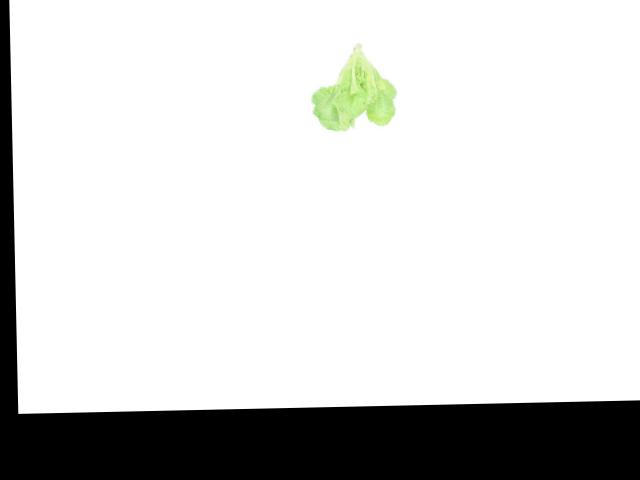lettuce: (305, 40, 400, 137)
